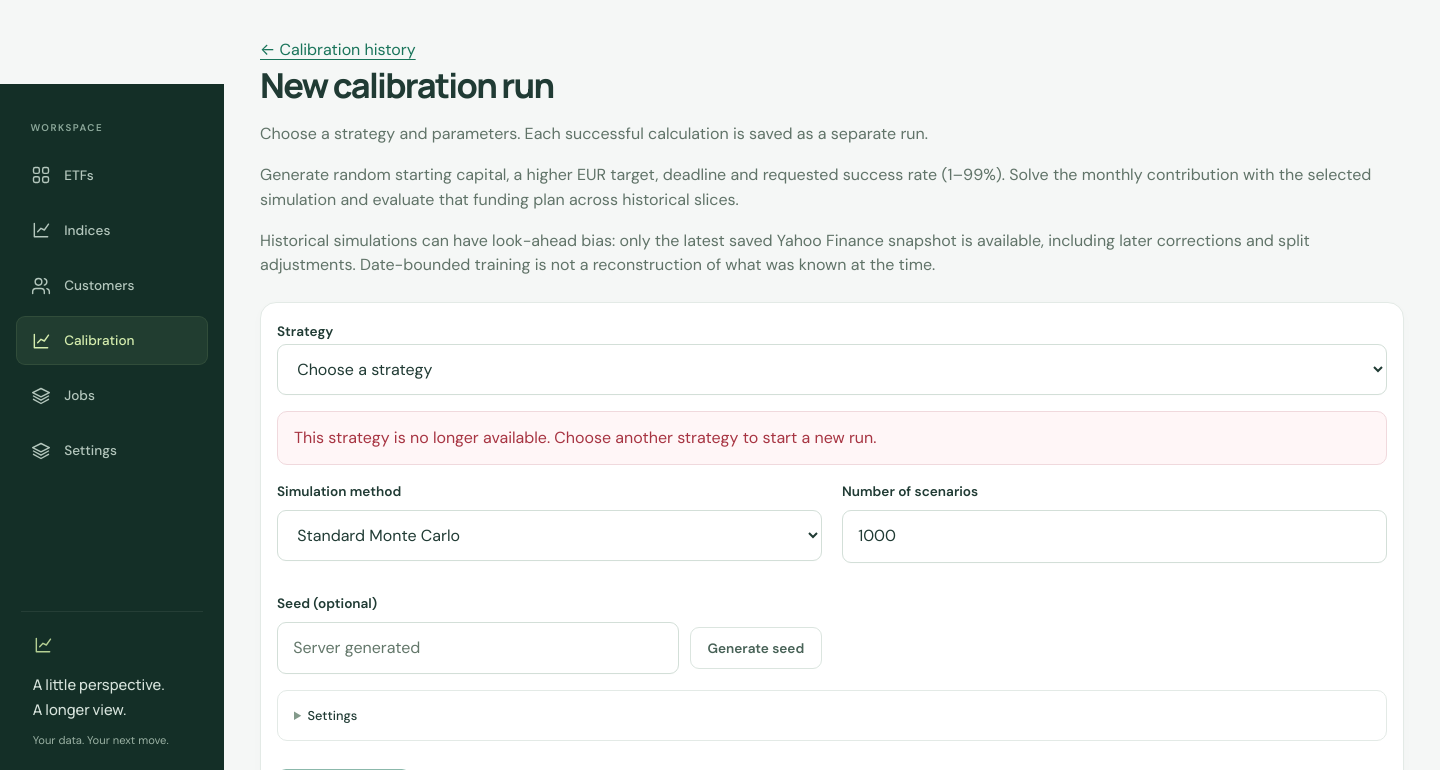
immutable calibration history and routes › lets an unknown legacy strategy select an available replacement rather than silently submitting it
The image size is (1440, 770).
Check: the message shows "no longer available", box left=294, top=427, right=876, bottom=448
Select "Buy and hold single instrument" in the dropdown labelled "Strategy" at (832, 369), box left=277, top=344, right=1387, bottom=395
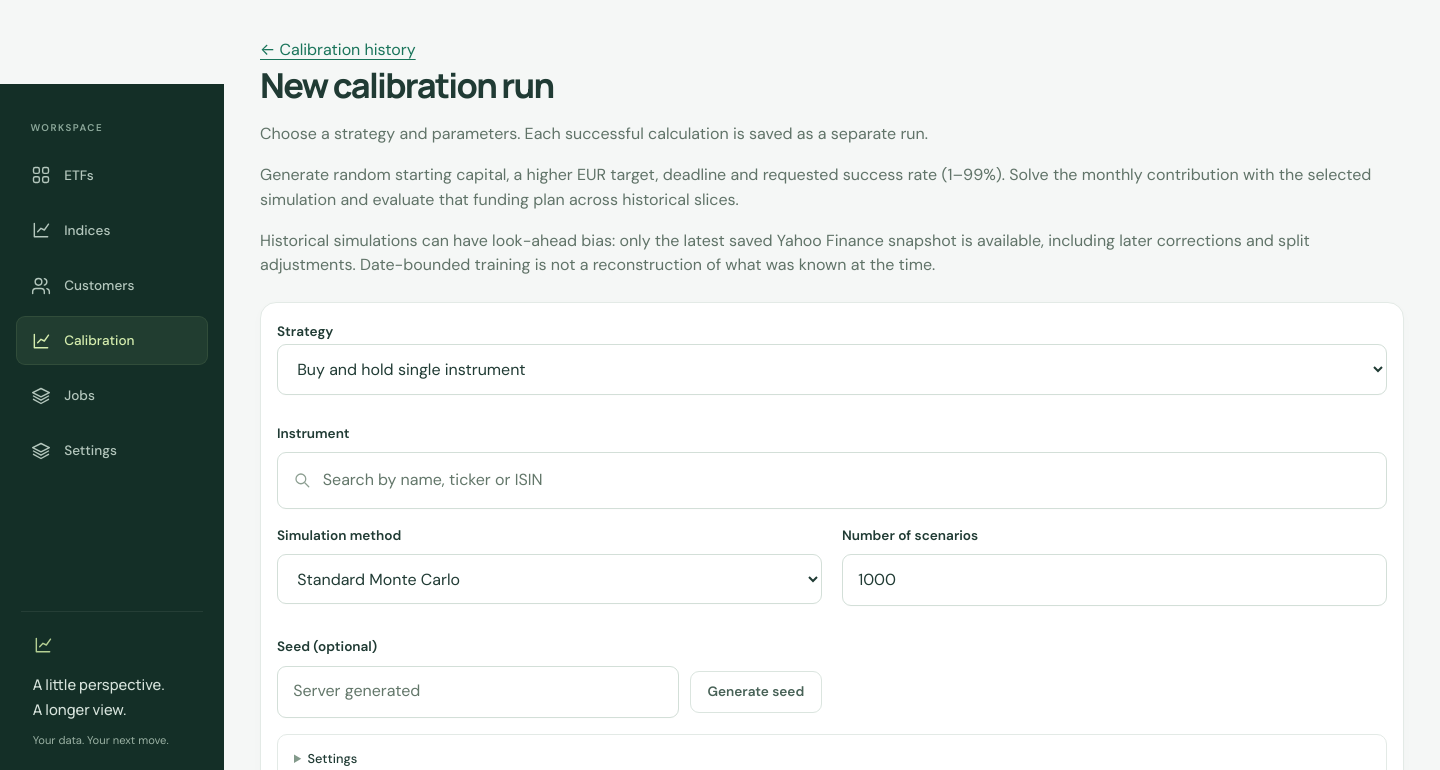
Type "IE00B4L5Y983" into the dropdown labelled "Instrument" at (832, 480), box left=277, top=452, right=1387, bottom=509
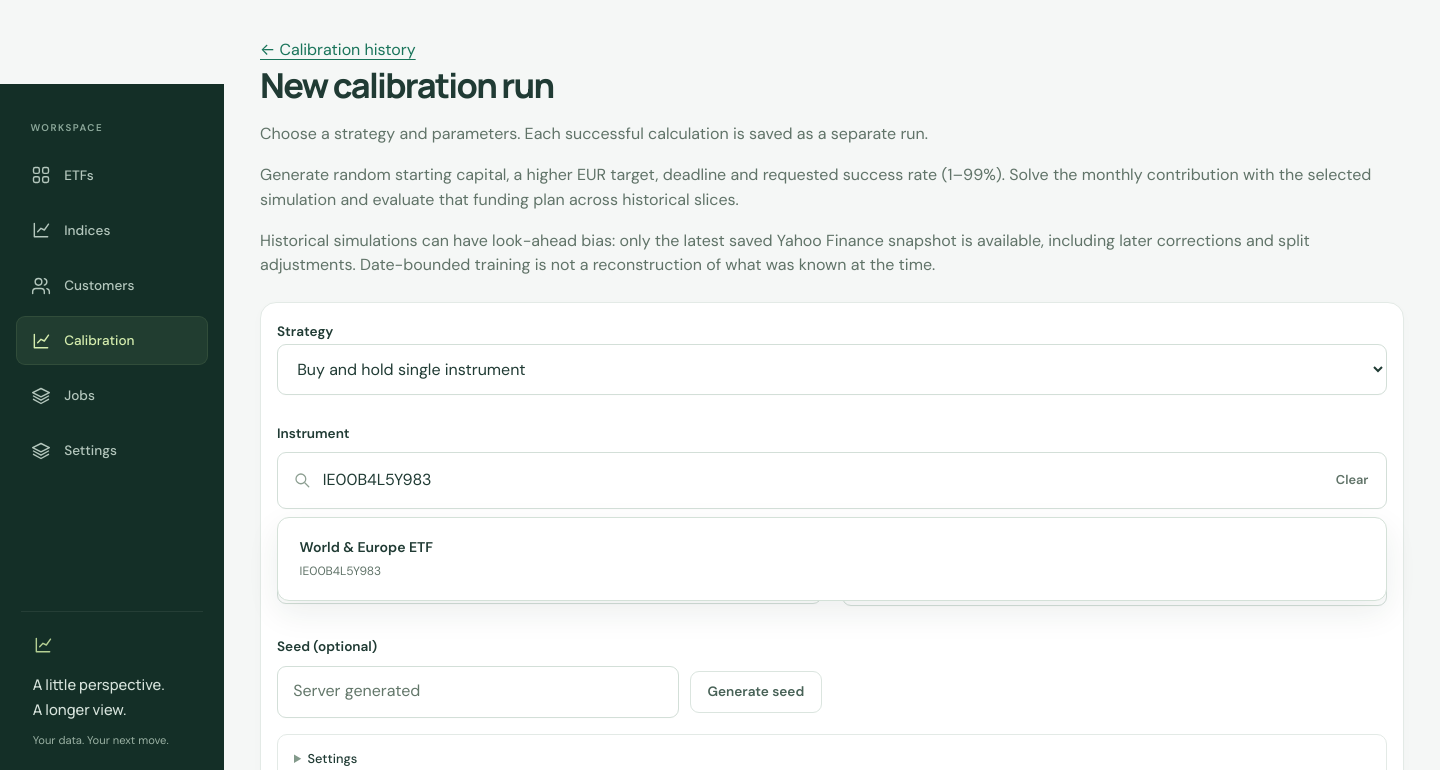
Click the option "World & Europe ETF IE00B4L5Y983" at (366, 558), box left=300, top=538, right=433, bottom=579
(page scrolled)
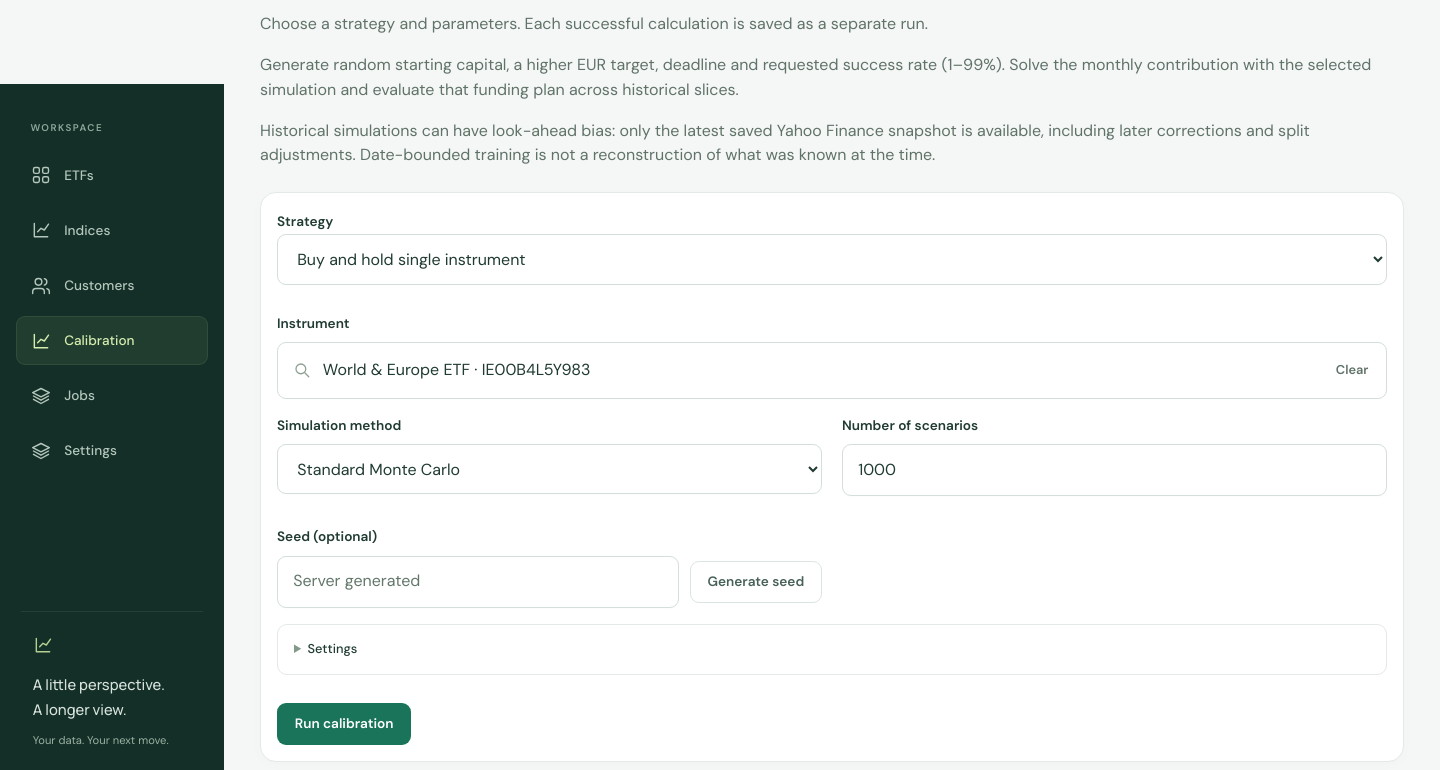
Check: the button "Run calibration" is enabled, box left=277, top=702, right=411, bottom=744
